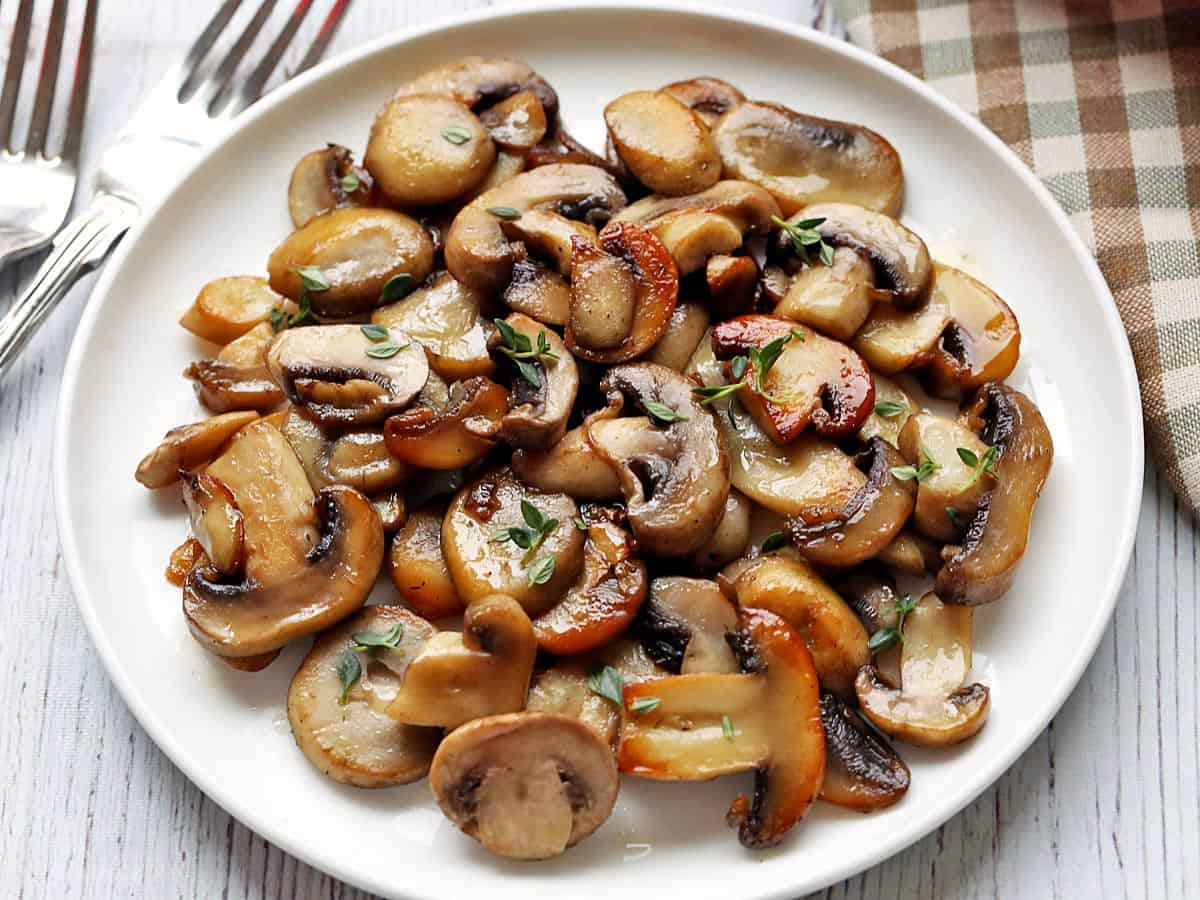mushroom-white: (134, 59, 1054, 852)
